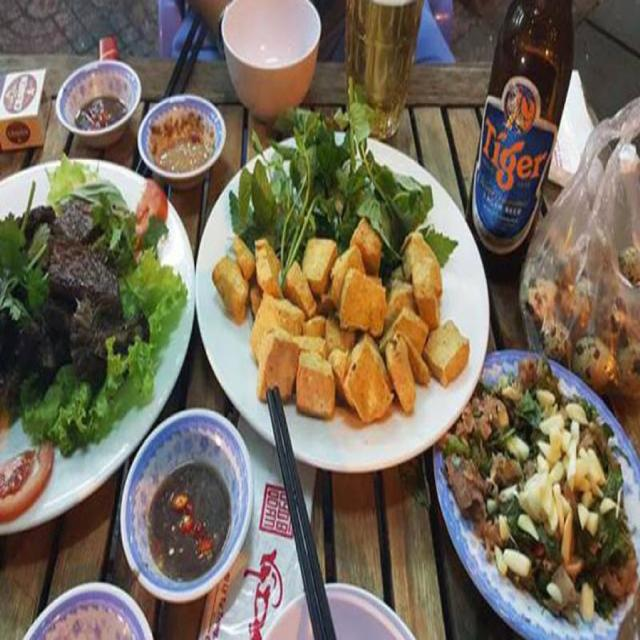bia: (466, 0, 578, 239), (350, 0, 418, 136)
dau hu chien: (211, 148, 466, 419)
trung cut: (527, 220, 640, 388)
